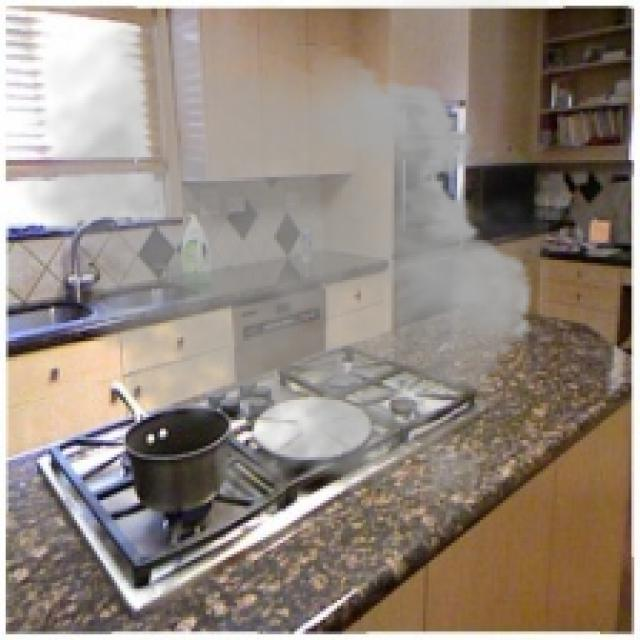Smoke: (2, 0, 548, 520)
